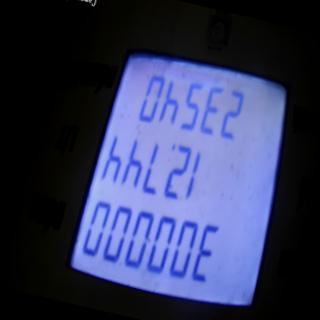screen: (55, 14, 315, 320)
